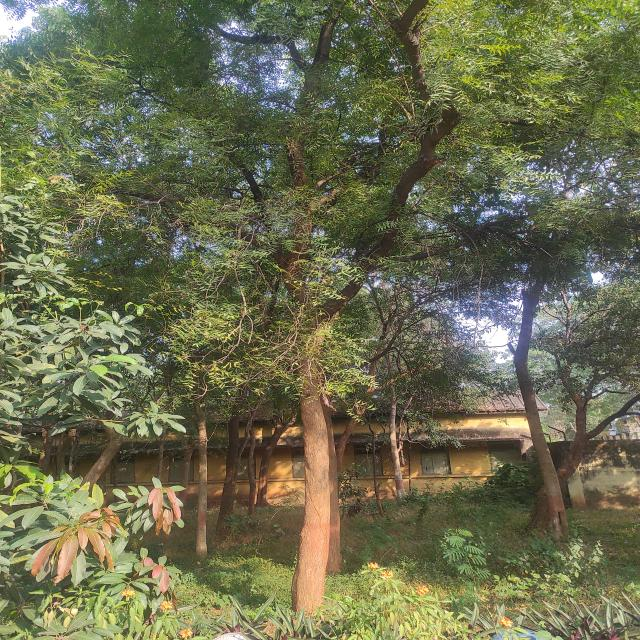Mango Tree: (1, 247, 181, 600)
Neem Tree: (180, 1, 630, 412)
